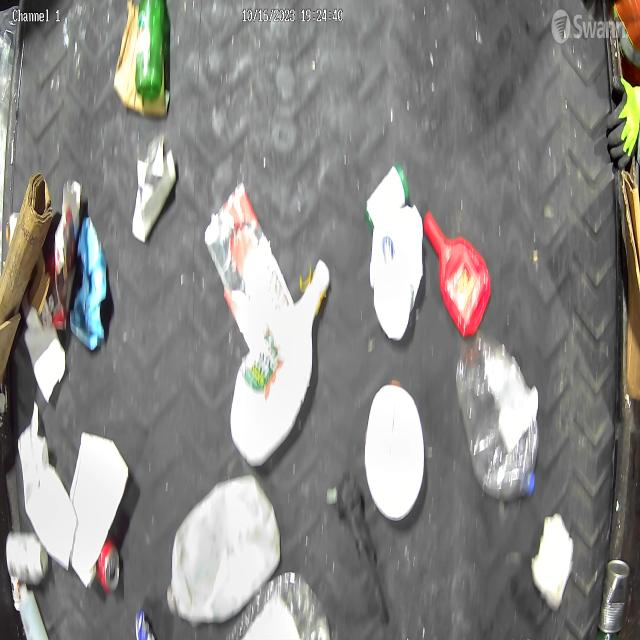can: (5, 527, 50, 586), (597, 556, 631, 634), (96, 541, 122, 593)
milk_jug: (166, 472, 281, 626)
plastic_bottle: (454, 332, 540, 501)
